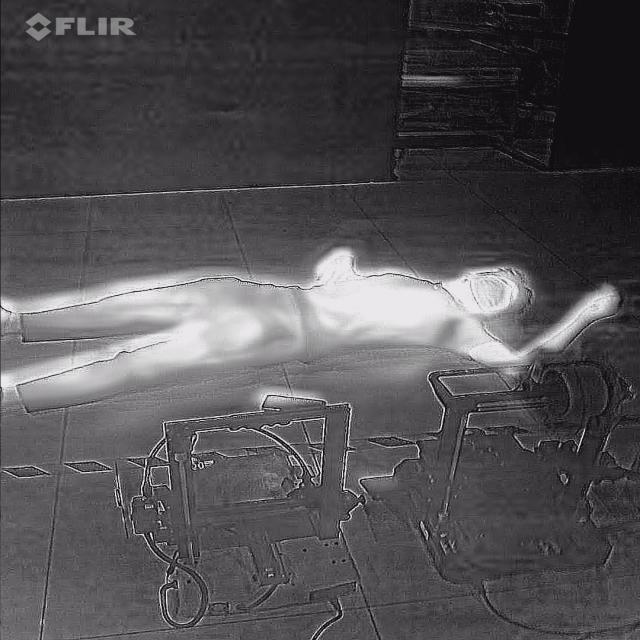Victim: (0, 244, 630, 424)
